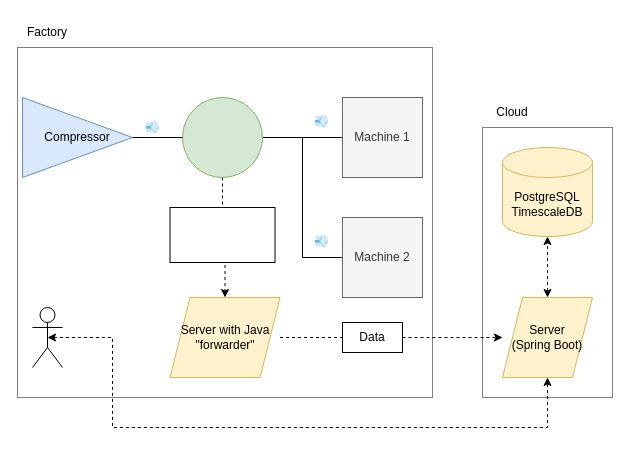
Image size: 630x454. Some labels were removed from this diagram. Each missing label, with the centre of its shape:
"AMS Unit" goes at (x=222, y=137).
"Sensor Data Temperature, Pressure, Flow Rate" goes at (x=222, y=234).
"User" goes at (x=47, y=337).
